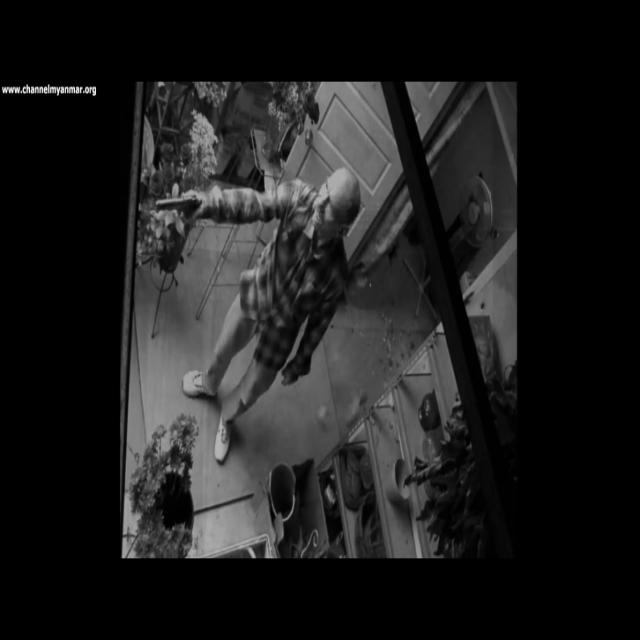gun: (156, 197, 202, 217)
